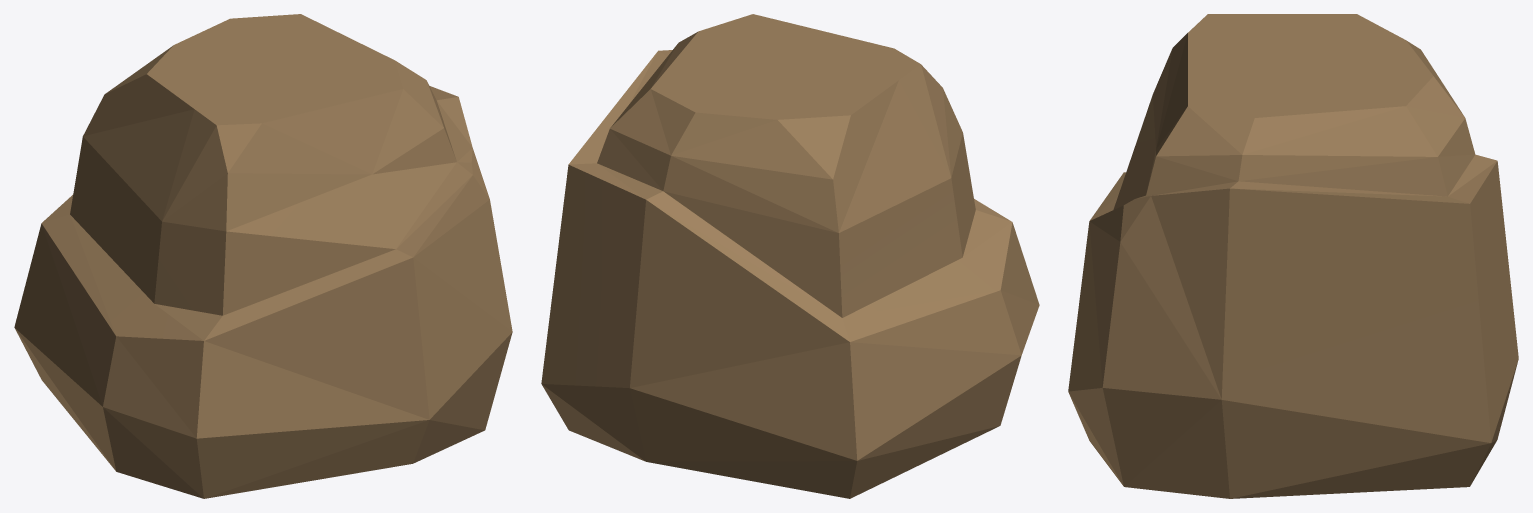
File: SM_Env_Rock_08.gltf
3 views of the same model, side by side, from view 1: azimuth 30°, elevation 25°; view 2: azimuth 150°, elevation 25°; view 3: azimuth 270°, elevation 25° (orthographic). The views are drawn at different scales.
Visible parts, largest first — view 1: SM_Env_Rock_08; view 2: SM_Env_Rock_08; view 3: SM_Env_Rock_08.
Part boxes in pixels (x1,y1,x2,y2): SM_Env_Rock_08: [14, 14, 512, 498]; SM_Env_Rock_08: [541, 14, 1039, 498]; SM_Env_Rock_08: [1068, 14, 1518, 498].
Bounding box in the file's own units: 0.6409 × 0.5397 × 0.623.
Materials: 1 (1 with a texture image).
